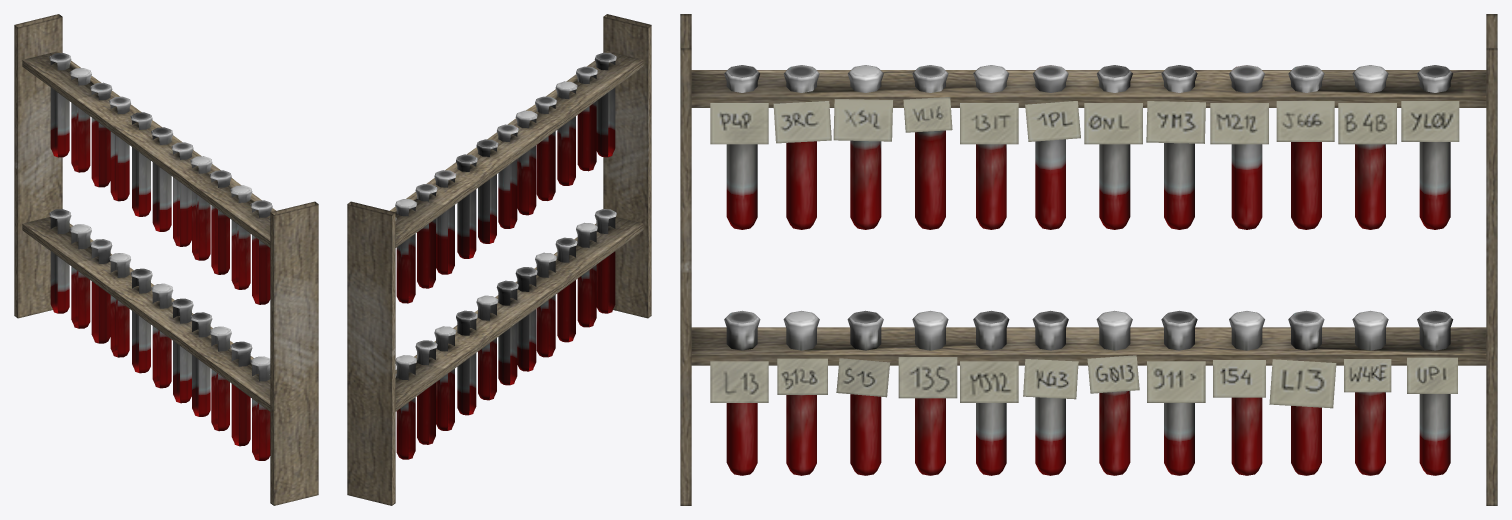
File: bloodSample.fbx
3 views of the same model, side by side, from view 1: azimuth 30°, elevation 25°; view 2: azimuth 150°, elevation 25°; view 3: azimuth 270°, elevation 25° (orthographic). The views are drawn at different scales.
Visible parts, largest first — view 1: polySurface1895; view 2: polySurface1895; view 3: polySurface1895.
Boxes of the visible parts, x1,y1,x2,y2 form: polySurface1895: [14, 14, 318, 505]; polySurface1895: [347, 14, 651, 505]; polySurface1895: [680, 14, 1497, 505].
Bounding box in the file's own units: 5.72 × 35.61 × 57.64.
